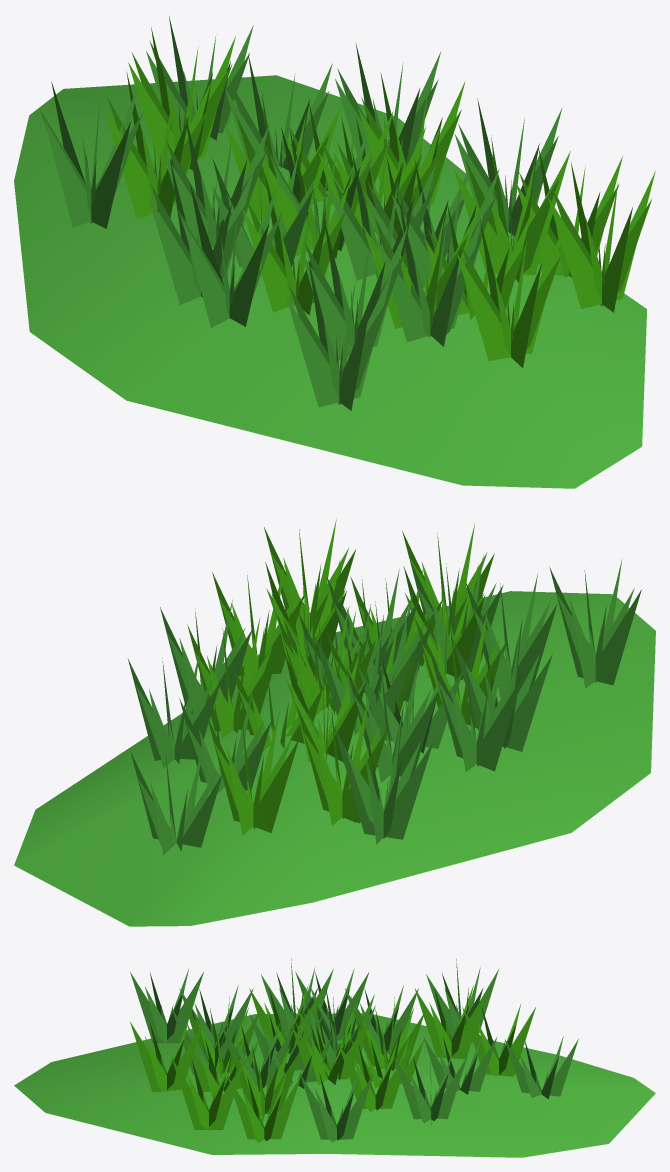
The model's file is TuftOfGrass_435.gltf.
The picture shows the model from 3 angles, top to bottom: view 1: azimuth 30°, elevation 25°; view 2: azimuth 150°, elevation 25°; view 3: azimuth 270°, elevation 25°; orthographic projection. The views are drawn at different scales.
Parts seen in each view (by area): view 1: node-0; view 2: node-0; view 3: node-0.
Boxes of the visible parts, x1=… form: node-0: x1=14, y1=16, x2=655, y2=488; node-0: x1=14, y1=519, x2=655, y2=926; node-0: x1=14, y1=958, x2=655, y2=1157.
Bounding box in the file's own units: 95.72 × 27.36 × 176.
